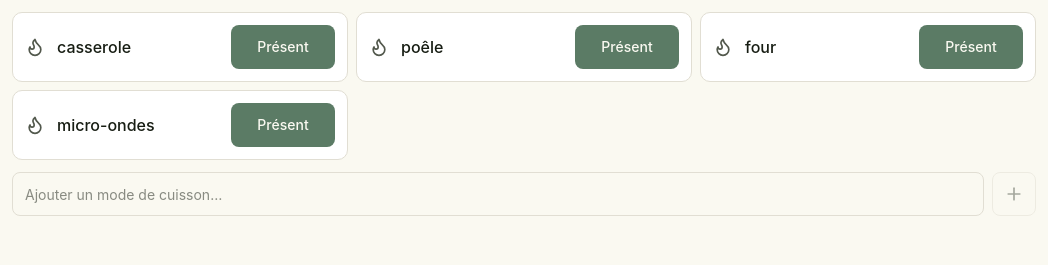
CookingModesSection › affiche une erreur si l’ajout échoue
Expected: the text "casserole" is shown, [57,35,131,59]
Type "wok" into the field labelled "Ajouter un mode de cuisson" at (498, 194), box [12,172,984,216]
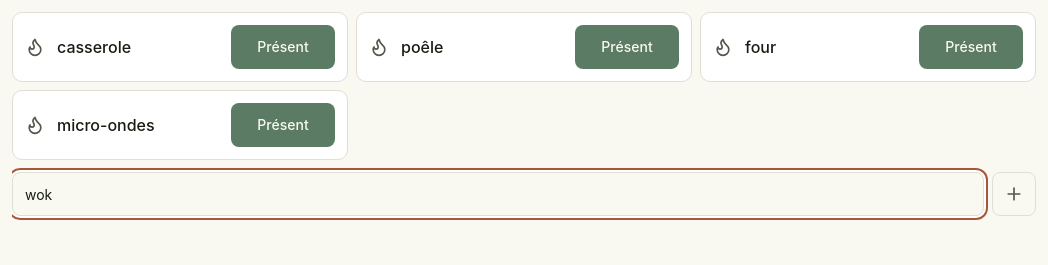
Click the button named "Ajouter" at (1014, 194), box [992,172,1036,216]
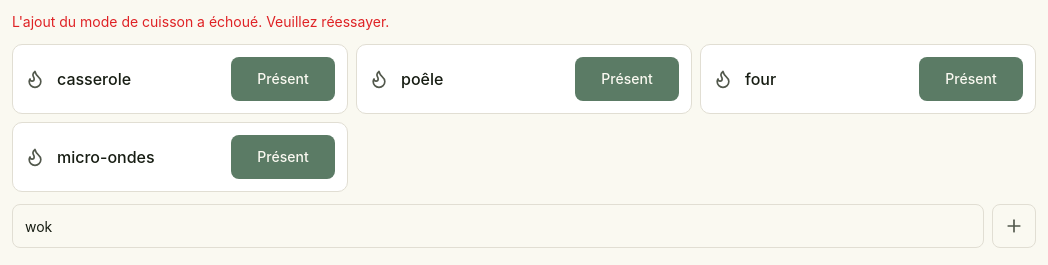
Result: the message reads "L'ajout du mode de cuisson a échoué. Veuillez réessayer." at [12,13,389,30]
